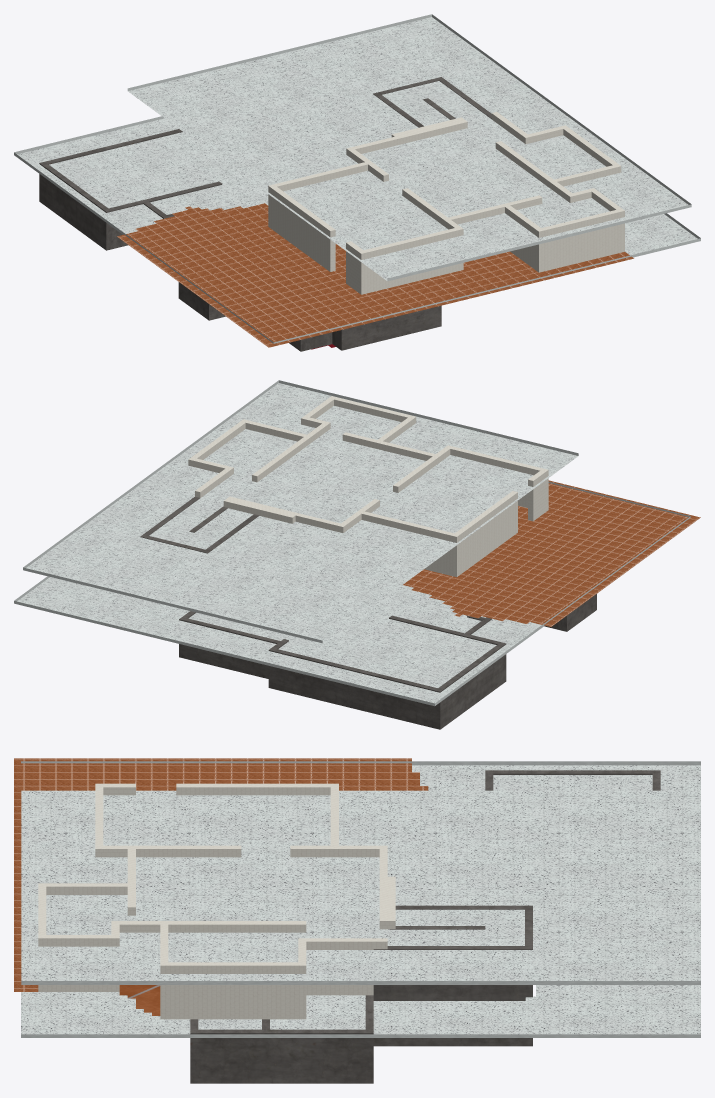
Rendered from butcher_shop.fbx.
3 renders of one model, top to bottom at view 1: azimuth 30°, elevation 25°; view 2: azimuth 150°, elevation 25°; view 3: azimuth 270°, elevation 25°, orthographic. The views are drawn at different scales.
Parts seen in each view (by area): view 1: Celing_upper, Shop floor, Celing_lower, Shop walls, Walls; view 2: Celing_upper, Celing_lower, Shop floor, Shop walls, Walls; view 3: Celing_upper, Celing_lower, Shop walls, Walls, Shop floor.
Part boxes in pixels (left/top/right/bottom): Celing_upper: left=127, top=14, right=691, bottom=281; Shop floor: left=117, top=203, right=633, bottom=347; Celing_lower: left=14, top=116, right=700, bottom=343; Shop walls: left=268, top=112, right=624, bottom=294; Walls: left=39, top=77, right=491, bottom=351; Celing_upper: left=23, top=380, right=578, bottom=643; Celing_lower: left=14, top=481, right=690, bottom=706; Shop floor: left=403, top=480, right=700, bottom=626; Shop walls: left=188, top=396, right=548, bottom=577; Walls: left=140, top=496, right=596, bottom=729; Celing_upper: left=21, top=790, right=700, bottom=984; Celing_lower: left=21, top=761, right=700, bottom=1037; Shop walls: left=38, top=783, right=395, bottom=1019; Walls: left=190, top=770, right=660, bottom=1083; Shop floor: left=14, top=758, right=428, bottom=1015.
Size of the model in its own units: 5827 by 1044 by 6091.
